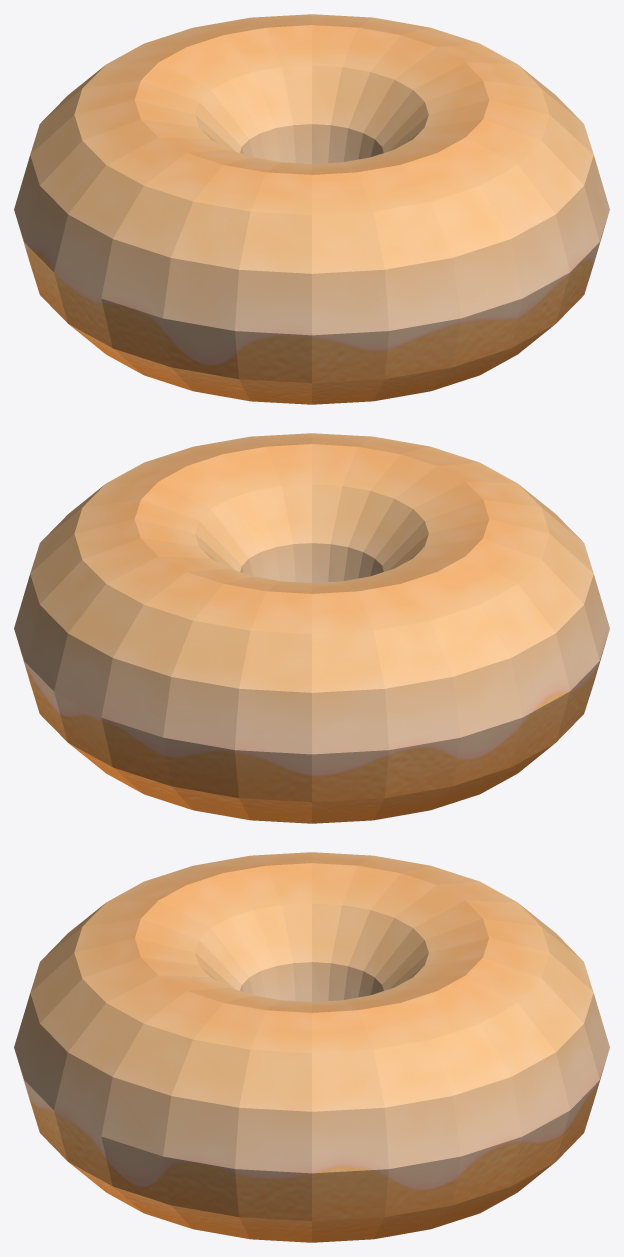
File: donut4.fbx
3 views of the same model, one above another, from view 1: azimuth 30°, elevation 25°; view 2: azimuth 150°, elevation 25°; view 3: azimuth 270°, elevation 25° (orthographic).
Parts seen in each view (by area): view 1: donut4; view 2: donut4; view 3: donut4.
Boxes of the visible parts, bbox=[...] form: donut4: bbox=[14, 14, 609, 404]; donut4: bbox=[14, 433, 609, 823]; donut4: bbox=[14, 852, 609, 1242].
Size of the model in its own units: 62 by 25.14 by 62.
1 material, 1 textured.
